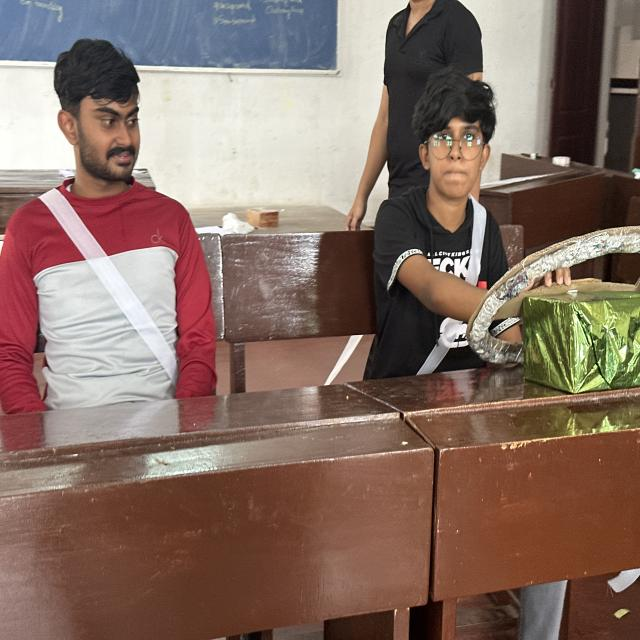seatbelt: (26, 161, 214, 433), (384, 189, 568, 405)
